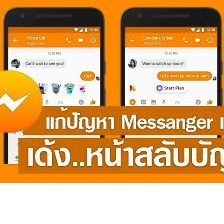phone: (0, 4, 105, 184), (119, 5, 223, 181)
